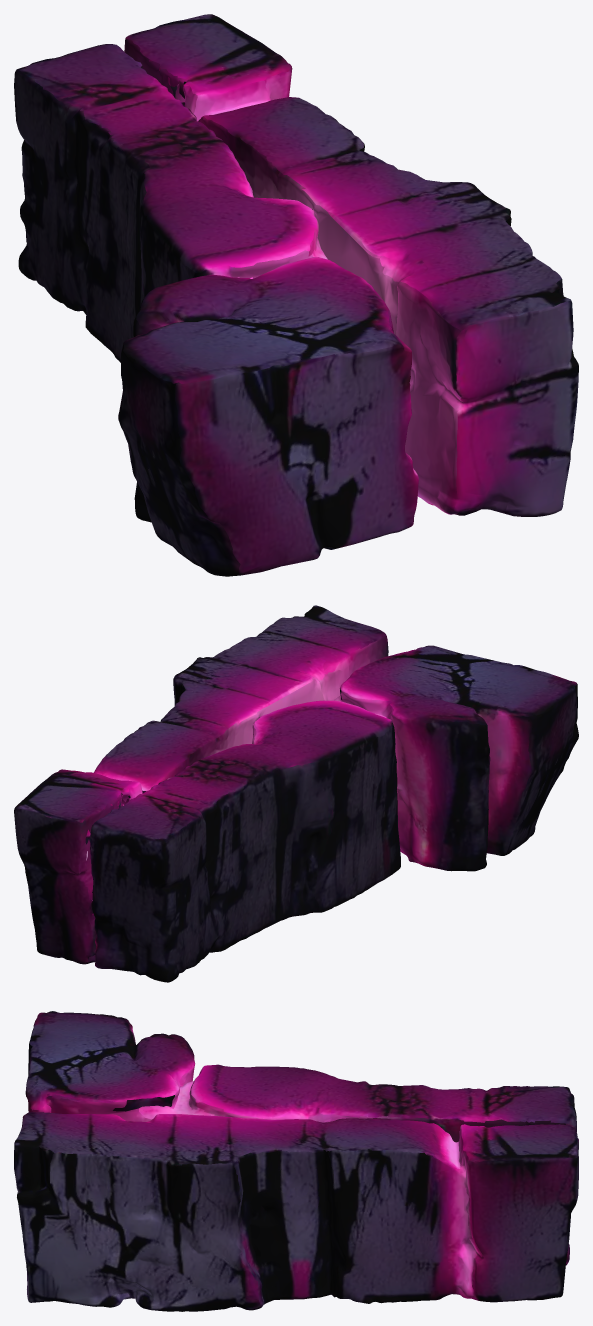
The model's file is shelf-break-3-generated-2026-05-17T20-41-08-791Z.medium.glb.
The picture shows the model from 3 angles, top to bottom: view 1: azimuth 30°, elevation 25°; view 2: azimuth 150°, elevation 25°; view 3: azimuth 270°, elevation 25°; orthographic projection. The views are drawn at different scales.
Visible parts, largest first — view 1: temp_mesh.ply; view 2: temp_mesh.ply; view 3: temp_mesh.ply.
Part boxes in pixels (box(x1,y1,x2,y2)): temp_mesh.ply: box(14, 14, 578, 576); temp_mesh.ply: box(14, 605, 578, 982); temp_mesh.ply: box(14, 1011, 578, 1311).
Size of the model in its own units: 1.27 by 0.6159 by 1.97.
1 material, 1 textured.
